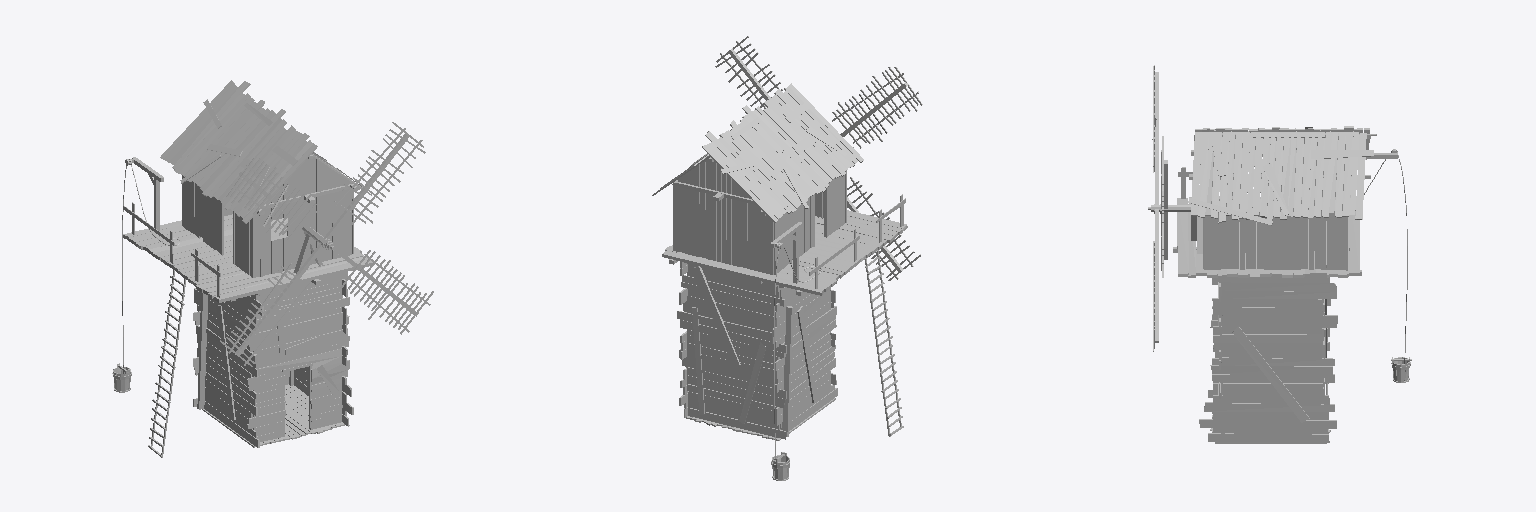
File: wooden_windmill.obj
The picture shows the model from 3 angles: view 1: azimuth 30°, elevation 25°; view 2: azimuth 150°, elevation 25°; view 3: azimuth 270°, elevation 25°; orthographic projection.
Visible parts, largest first — view 1: roof, wall_2, wind_turbine, floor, wall_1, wall_5, wall_6, stairs, wall_3, lever; view 2: wall_4, roof, wall_5, wall_1, floor, wind_turbine, wall_6, stairs, lever, wall_3; view 3: wall_3, roof, wall_6, floor, wind_turbine, lever.
Boxes of the visible parts, x1=… form: roof: x1=160, y1=80, x2=371, y2=264; wall_2: x1=247, y1=272, x2=349, y2=441; wind_turbine: x1=220, y1=122, x2=433, y2=366; floor: x1=123, y1=214, x2=374, y2=447; wall_1: x1=194, y1=288, x2=263, y2=447; wall_5: x1=224, y1=157, x2=352, y2=277; wall_6: x1=123, y1=175, x2=353, y2=297; stairs: x1=148, y1=270, x2=185, y2=457; wall_3: x1=252, y1=279, x2=353, y2=429; lever: x1=112, y1=157, x2=163, y2=392; wall_4: x1=669, y1=259, x2=805, y2=439; roof: x1=652, y1=83, x2=863, y2=246; wall_5: x1=673, y1=158, x2=846, y2=274; wall_1: x1=772, y1=285, x2=837, y2=436; floor: x1=662, y1=210, x2=907, y2=440; wind_turbine: x1=715, y1=36, x2=922, y2=280; wall_6: x1=774, y1=175, x2=905, y2=288; stairs: x1=865, y1=250, x2=903, y2=436; lever: x1=770, y1=222, x2=802, y2=480; wall_3: x1=679, y1=262, x2=780, y2=437; wall_3: x1=1199, y1=272, x2=1337, y2=442; roof: x1=1188, y1=126, x2=1376, y2=225; wall_6: x1=1178, y1=156, x2=1370, y2=269; floor: x1=1177, y1=197, x2=1359, y2=443; wind_turbine: x1=1148, y1=65, x2=1202, y2=351; lever: x1=1366, y1=149, x2=1411, y2=382.
Size of the model in its own units: 710 by 936 by 703.